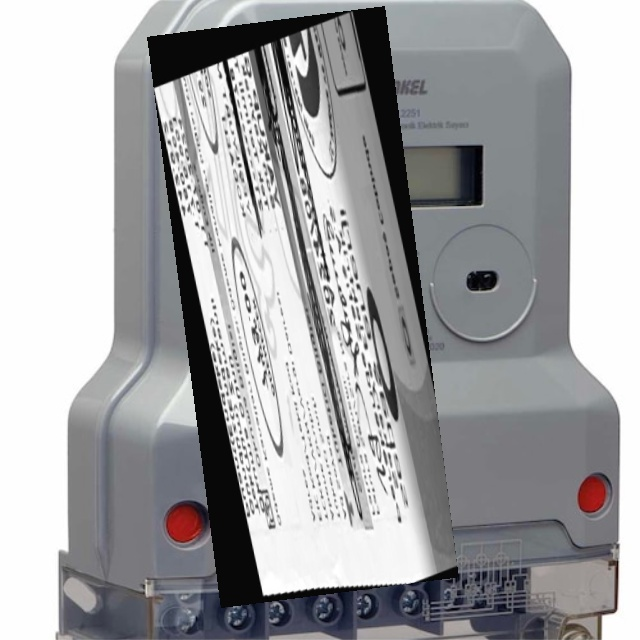electricity-bill: (146, 5, 458, 607)
